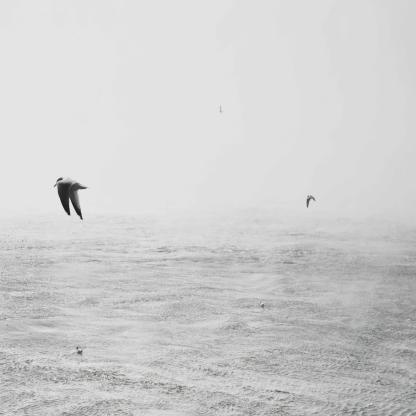bird: (53, 176, 89, 224), (305, 194, 317, 209), (220, 105, 226, 114)
